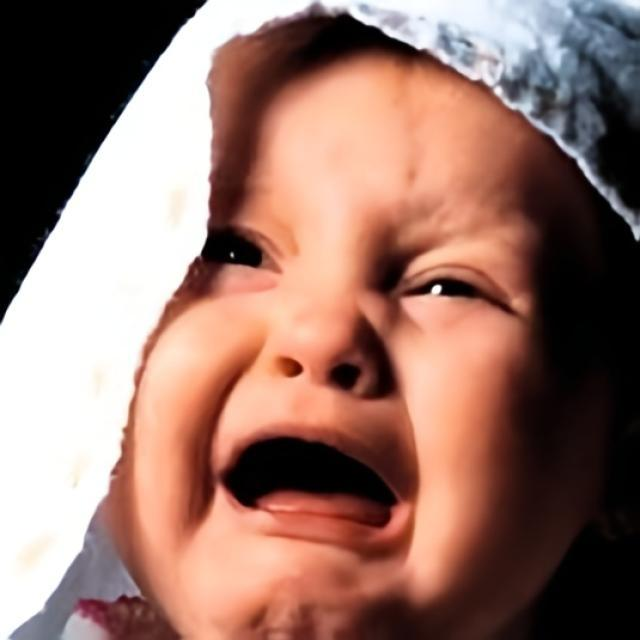sad: (103, 24, 614, 640)
